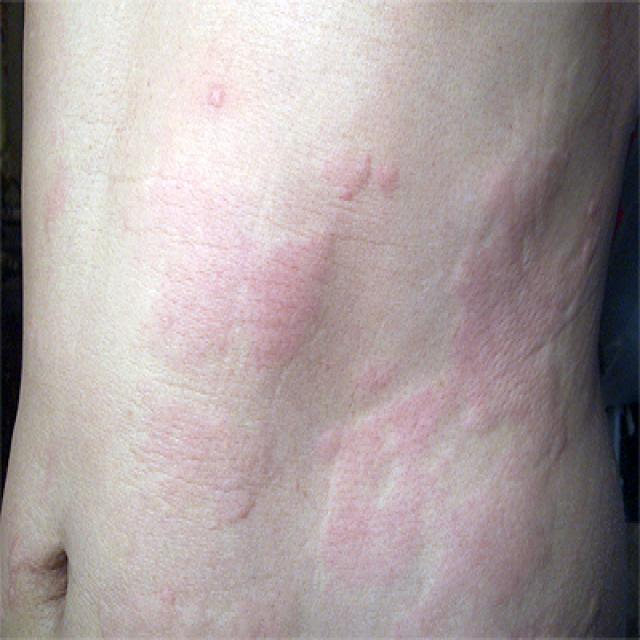hives: (133, 109, 619, 604)
